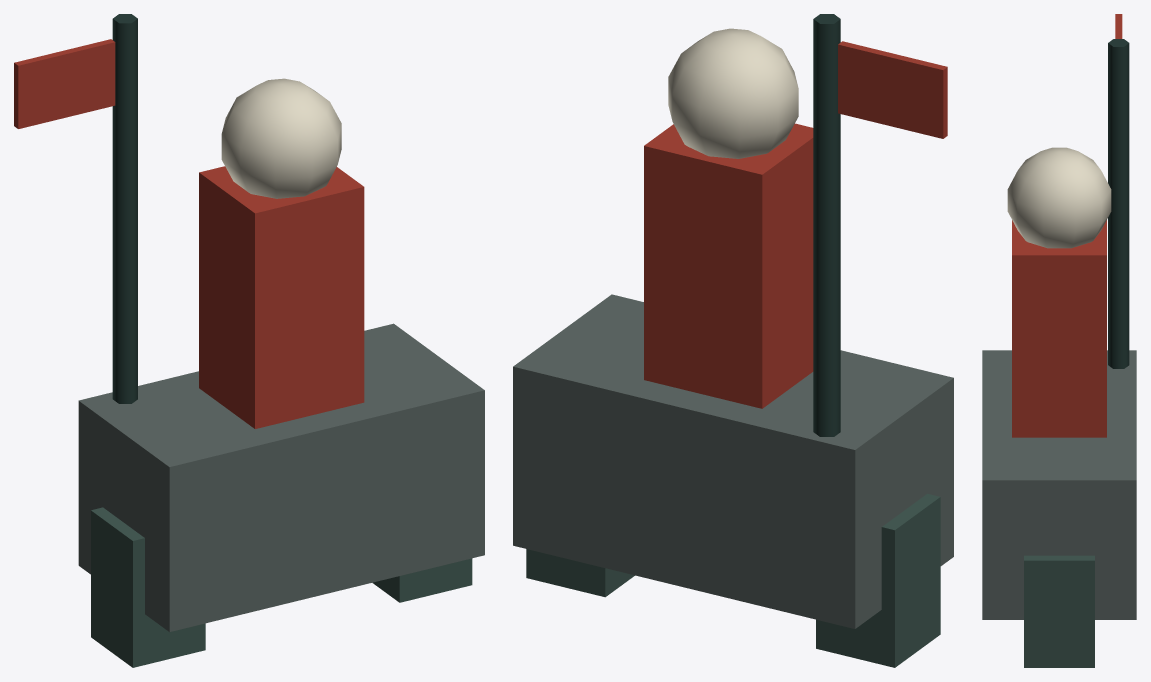
The picture shows the model from 3 angles, left to right: view 1: azimuth 30°, elevation 25°; view 2: azimuth 150°, elevation 25°; view 3: azimuth 270°, elevation 25°; orthographic projection. The views are drawn at different scales.
Parts seen in each view (by area): view 1: _MeshInstance3D_18, _MeshInstance3D_21, _MeshInstance3D_22, _MeshInstance3D_23, _MeshInstance3D_20, _MeshInstance3D_24, _MeshInstance3D_19; view 2: _MeshInstance3D_18, _MeshInstance3D_21, _MeshInstance3D_22, _MeshInstance3D_23, _MeshInstance3D_20, _MeshInstance3D_24, _MeshInstance3D_19; view 3: _MeshInstance3D_18, _MeshInstance3D_21, _MeshInstance3D_22, _MeshInstance3D_19, _MeshInstance3D_23.
Part boxes in pixels (<box>): _MeshInstance3D_18: <box>78,323,484,631</box>; _MeshInstance3D_21: <box>199,166,364,428</box>; _MeshInstance3D_22: <box>221,78,341,198</box>; _MeshInstance3D_23: <box>112,14,137,403</box>; _MeshInstance3D_20: <box>91,507,205,667</box>; _MeshInstance3D_24: <box>14,39,115,128</box>; _MeshInstance3D_19: <box>372,558,472,602</box>; _MeshInstance3D_18: <box>513,294,953,628</box>; _MeshInstance3D_21: <box>644,123,813,408</box>; _MeshInstance3D_22: <box>668,28,798,158</box>; _MeshInstance3D_23: <box>813,14,840,436</box>; _MeshInstance3D_20: <box>816,493,940,667</box>; _MeshInstance3D_24: <box>838,41,947,138</box>; _MeshInstance3D_19: <box>526,549,634,597</box>; _MeshInstance3D_18: <box>982,350,1136,619</box>; _MeshInstance3D_21: <box>1012,220,1106,437</box>; _MeshInstance3D_22: <box>1007,147,1111,248</box>; _MeshInstance3D_19: <box>1024,555,1094,667</box>; _MeshInstance3D_23: <box>1108,39,1129,368</box>.
Bounding box in the file's own units: 0.66 × 0.94 × 0.26.
